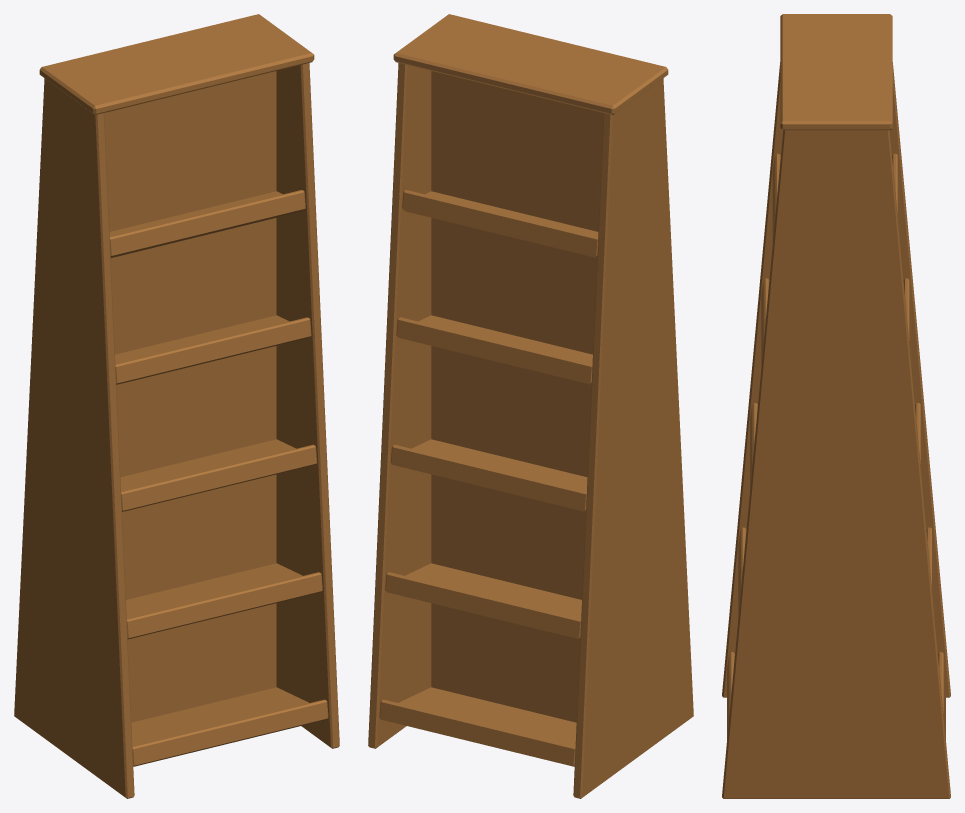
File: TorreExpositora.fbx
The picture shows the model from 3 angles, left to right: view 1: azimuth 30°, elevation 25°; view 2: azimuth 150°, elevation 25°; view 3: azimuth 270°, elevation 25°; orthographic projection.
Parts seen in each view (by area): view 1: TorreExpositora; view 2: TorreExpositora; view 3: TorreExpositora.
Boxes of the visible parts, bbox=[...] form: TorreExpositora: bbox=[14, 14, 339, 798]; TorreExpositora: bbox=[368, 14, 693, 798]; TorreExpositora: bbox=[722, 14, 950, 798].
Bounding box in the file's own units: 0.62 × 1.8 × 0.5493.
